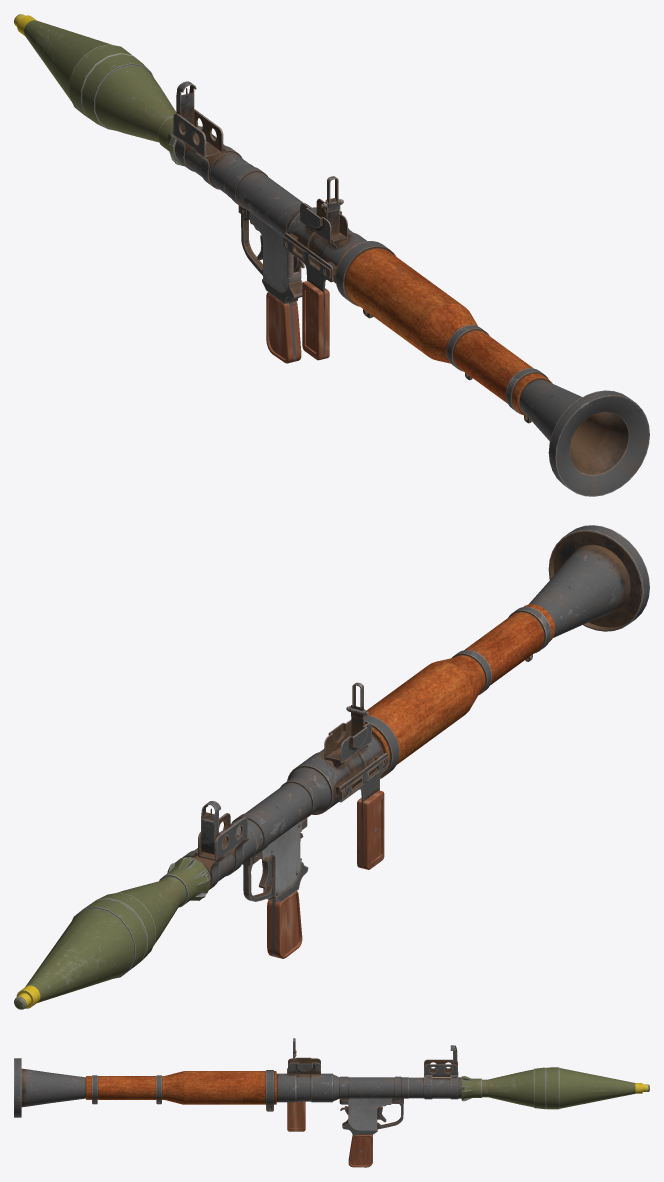
The model's file is rpg.glb.
The picture shows the model from 3 angles, top to bottom: view 1: azimuth 30°, elevation 25°; view 2: azimuth 150°, elevation 25°; view 3: azimuth 270°, elevation 25°; orthographic projection. The views are drawn at different scales.
Parts seen in each view (by area): view 1: Body, LoadedRocket; view 2: Body, LoadedRocket; view 3: Body, LoadedRocket.
Boxes of the visible parts, x1,y1,x2,y2 form: Body: (171,81,649,496); LoadedRocket: (14,14,202,166); Body: (182,525,649,958); LoadedRocket: (14,857,210,1009); Body: (14,1038,461,1167); LoadedRocket: (461,1067,649,1109).
Bounding box in the file's own units: 0.1261 × 0.2898 × 1.35.
2 materials, 2 textured.
